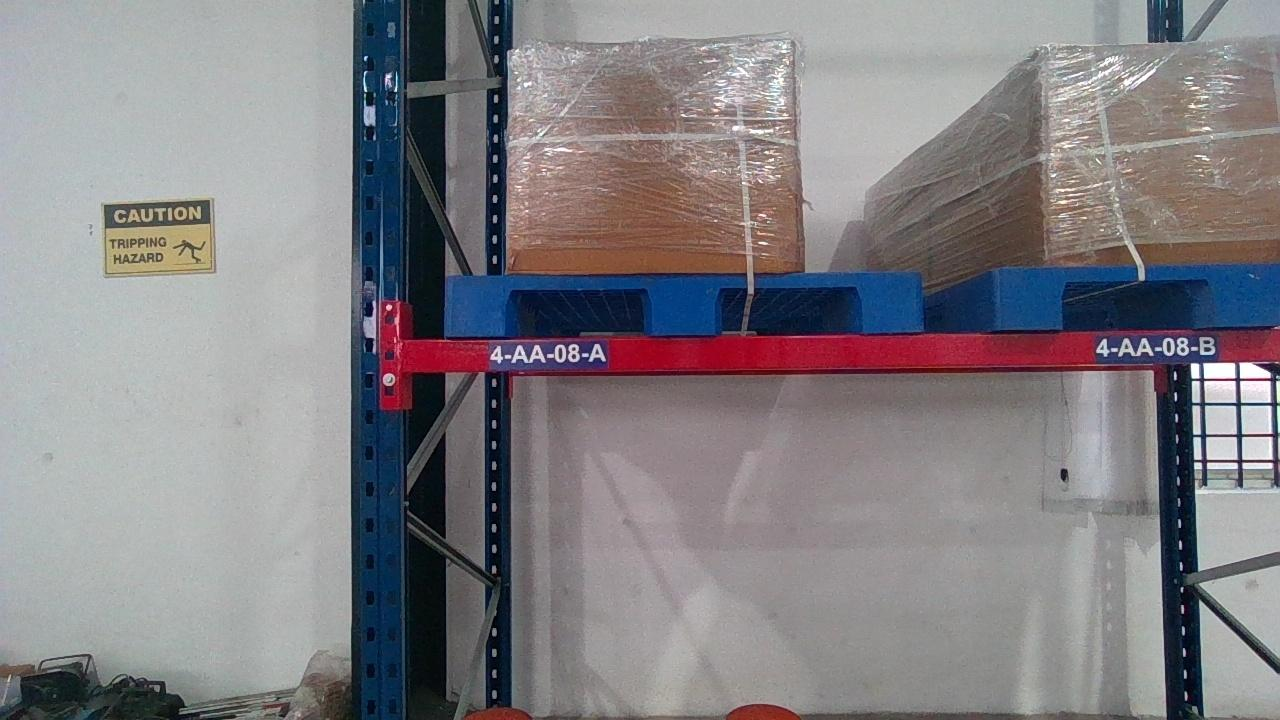h_rack: (408, 331, 1277, 370)
small_pallet: (442, 272, 923, 332), (996, 262, 1278, 325)
